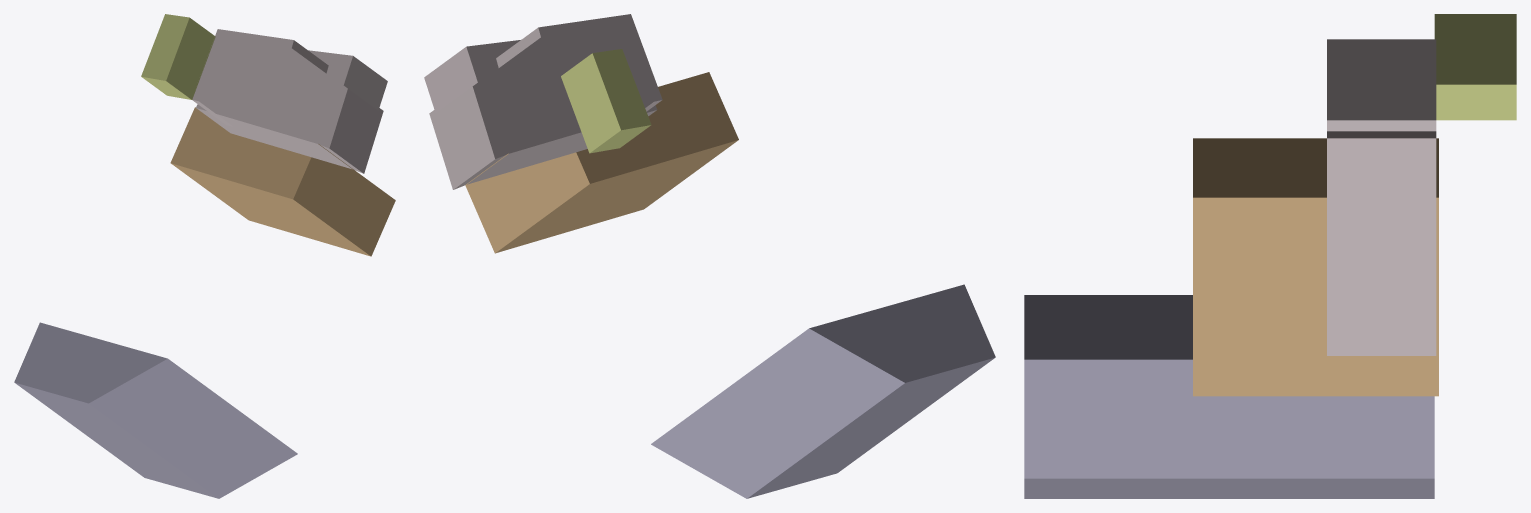
3 renders of one model, left to right at view 1: azimuth 30°, elevation 25°; view 2: azimuth 150°, elevation 25°; view 3: azimuth 270°, elevation 25°, orthographic. The views are drawn at different scales.
Visible parts, largest first — view 1: 0_0_1_3_1_2_1_1; view 2: 0_0_1_3_1_2_1_1; view 3: 0_0_1_3_1_2_1_1.
Part boxes in pixels (<box>): 0_0_1_3_1_2_1_1: <box>14,14,395,498</box>; 0_0_1_3_1_2_1_1: <box>424,14,995,498</box>; 0_0_1_3_1_2_1_1: <box>1024,14,1516,498</box>.
Bounding box in the file's own units: 67.68 × 65.78 × 54.
